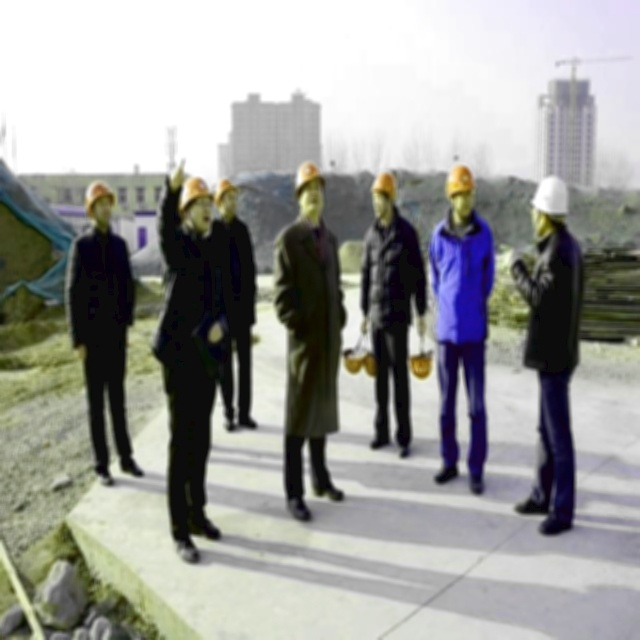Con_Casco: (531, 176, 569, 238), (445, 163, 475, 217)
Sin_Chaleco: (272, 218, 340, 360), (71, 229, 131, 347)
